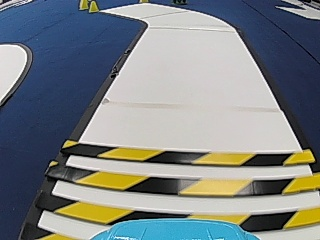bump: (67, 142, 294, 231)
